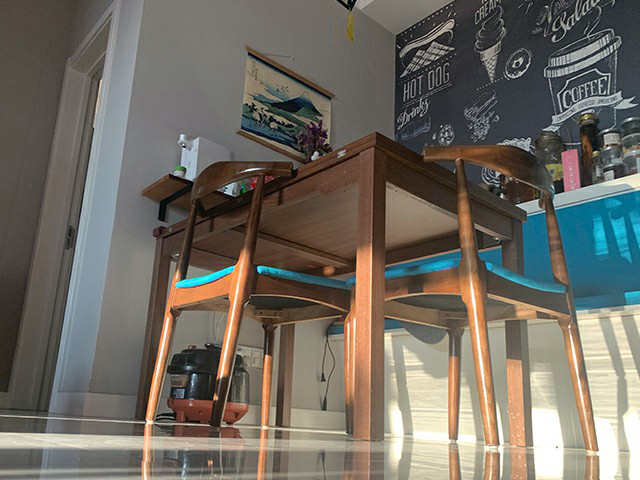stool: (346, 143, 601, 456), (142, 158, 356, 435)
table: (134, 130, 534, 449)
